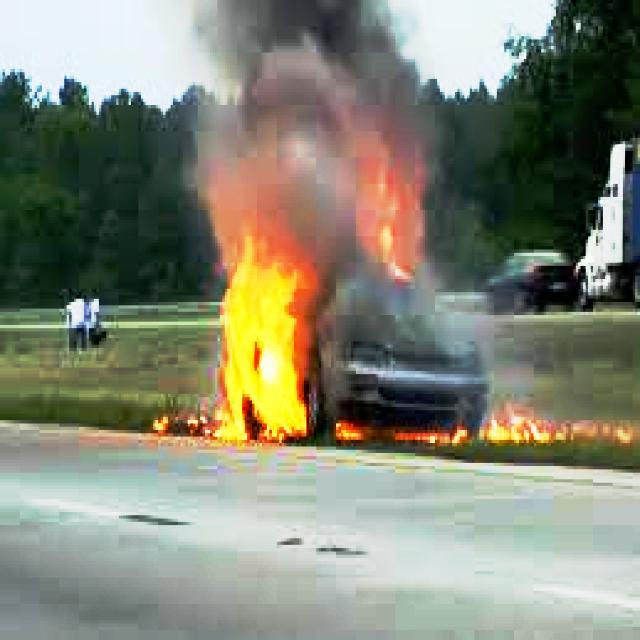api: (209, 221, 325, 451), (342, 159, 436, 297)
